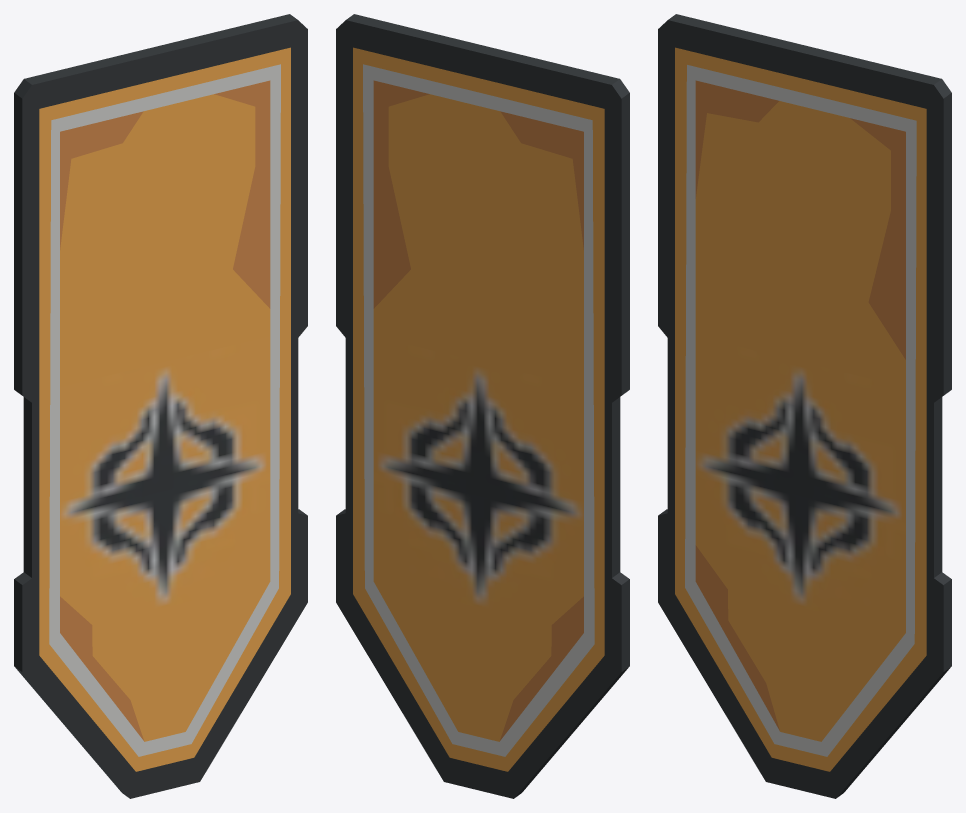
Rendered from worlds_SM_Prop_Banner_04_G.gltf.
3 views of the same model, side by side, from view 1: azimuth 30°, elevation 25°; view 2: azimuth 150°, elevation 25°; view 3: azimuth 330°, elevation 25° (orthographic).
Parts seen in each view (by area): view 1: SM_Prop_Banner_04_G; view 2: SM_Prop_Banner_04_G; view 3: SM_Prop_Banner_04_G.
Boxes of the visible parts, x1=… form: SM_Prop_Banner_04_G: x1=14, y1=14, x2=307, y2=798; SM_Prop_Banner_04_G: x1=336, y1=14, x2=629, y2=798; SM_Prop_Banner_04_G: x1=658, y1=14, x2=951, y2=798.
Size of the model in its own units: 0.9528 by 2.35 by 0.048.
Materials: 1 (1 with a texture image).
